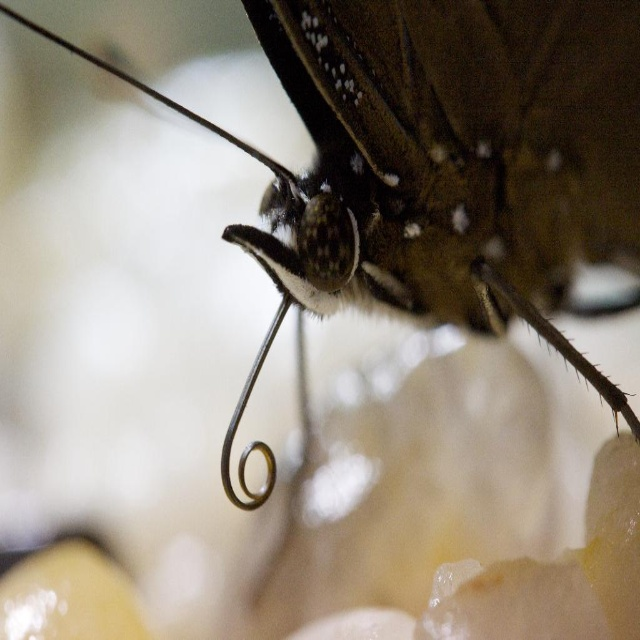Butterfly: (29, 0, 640, 553)
